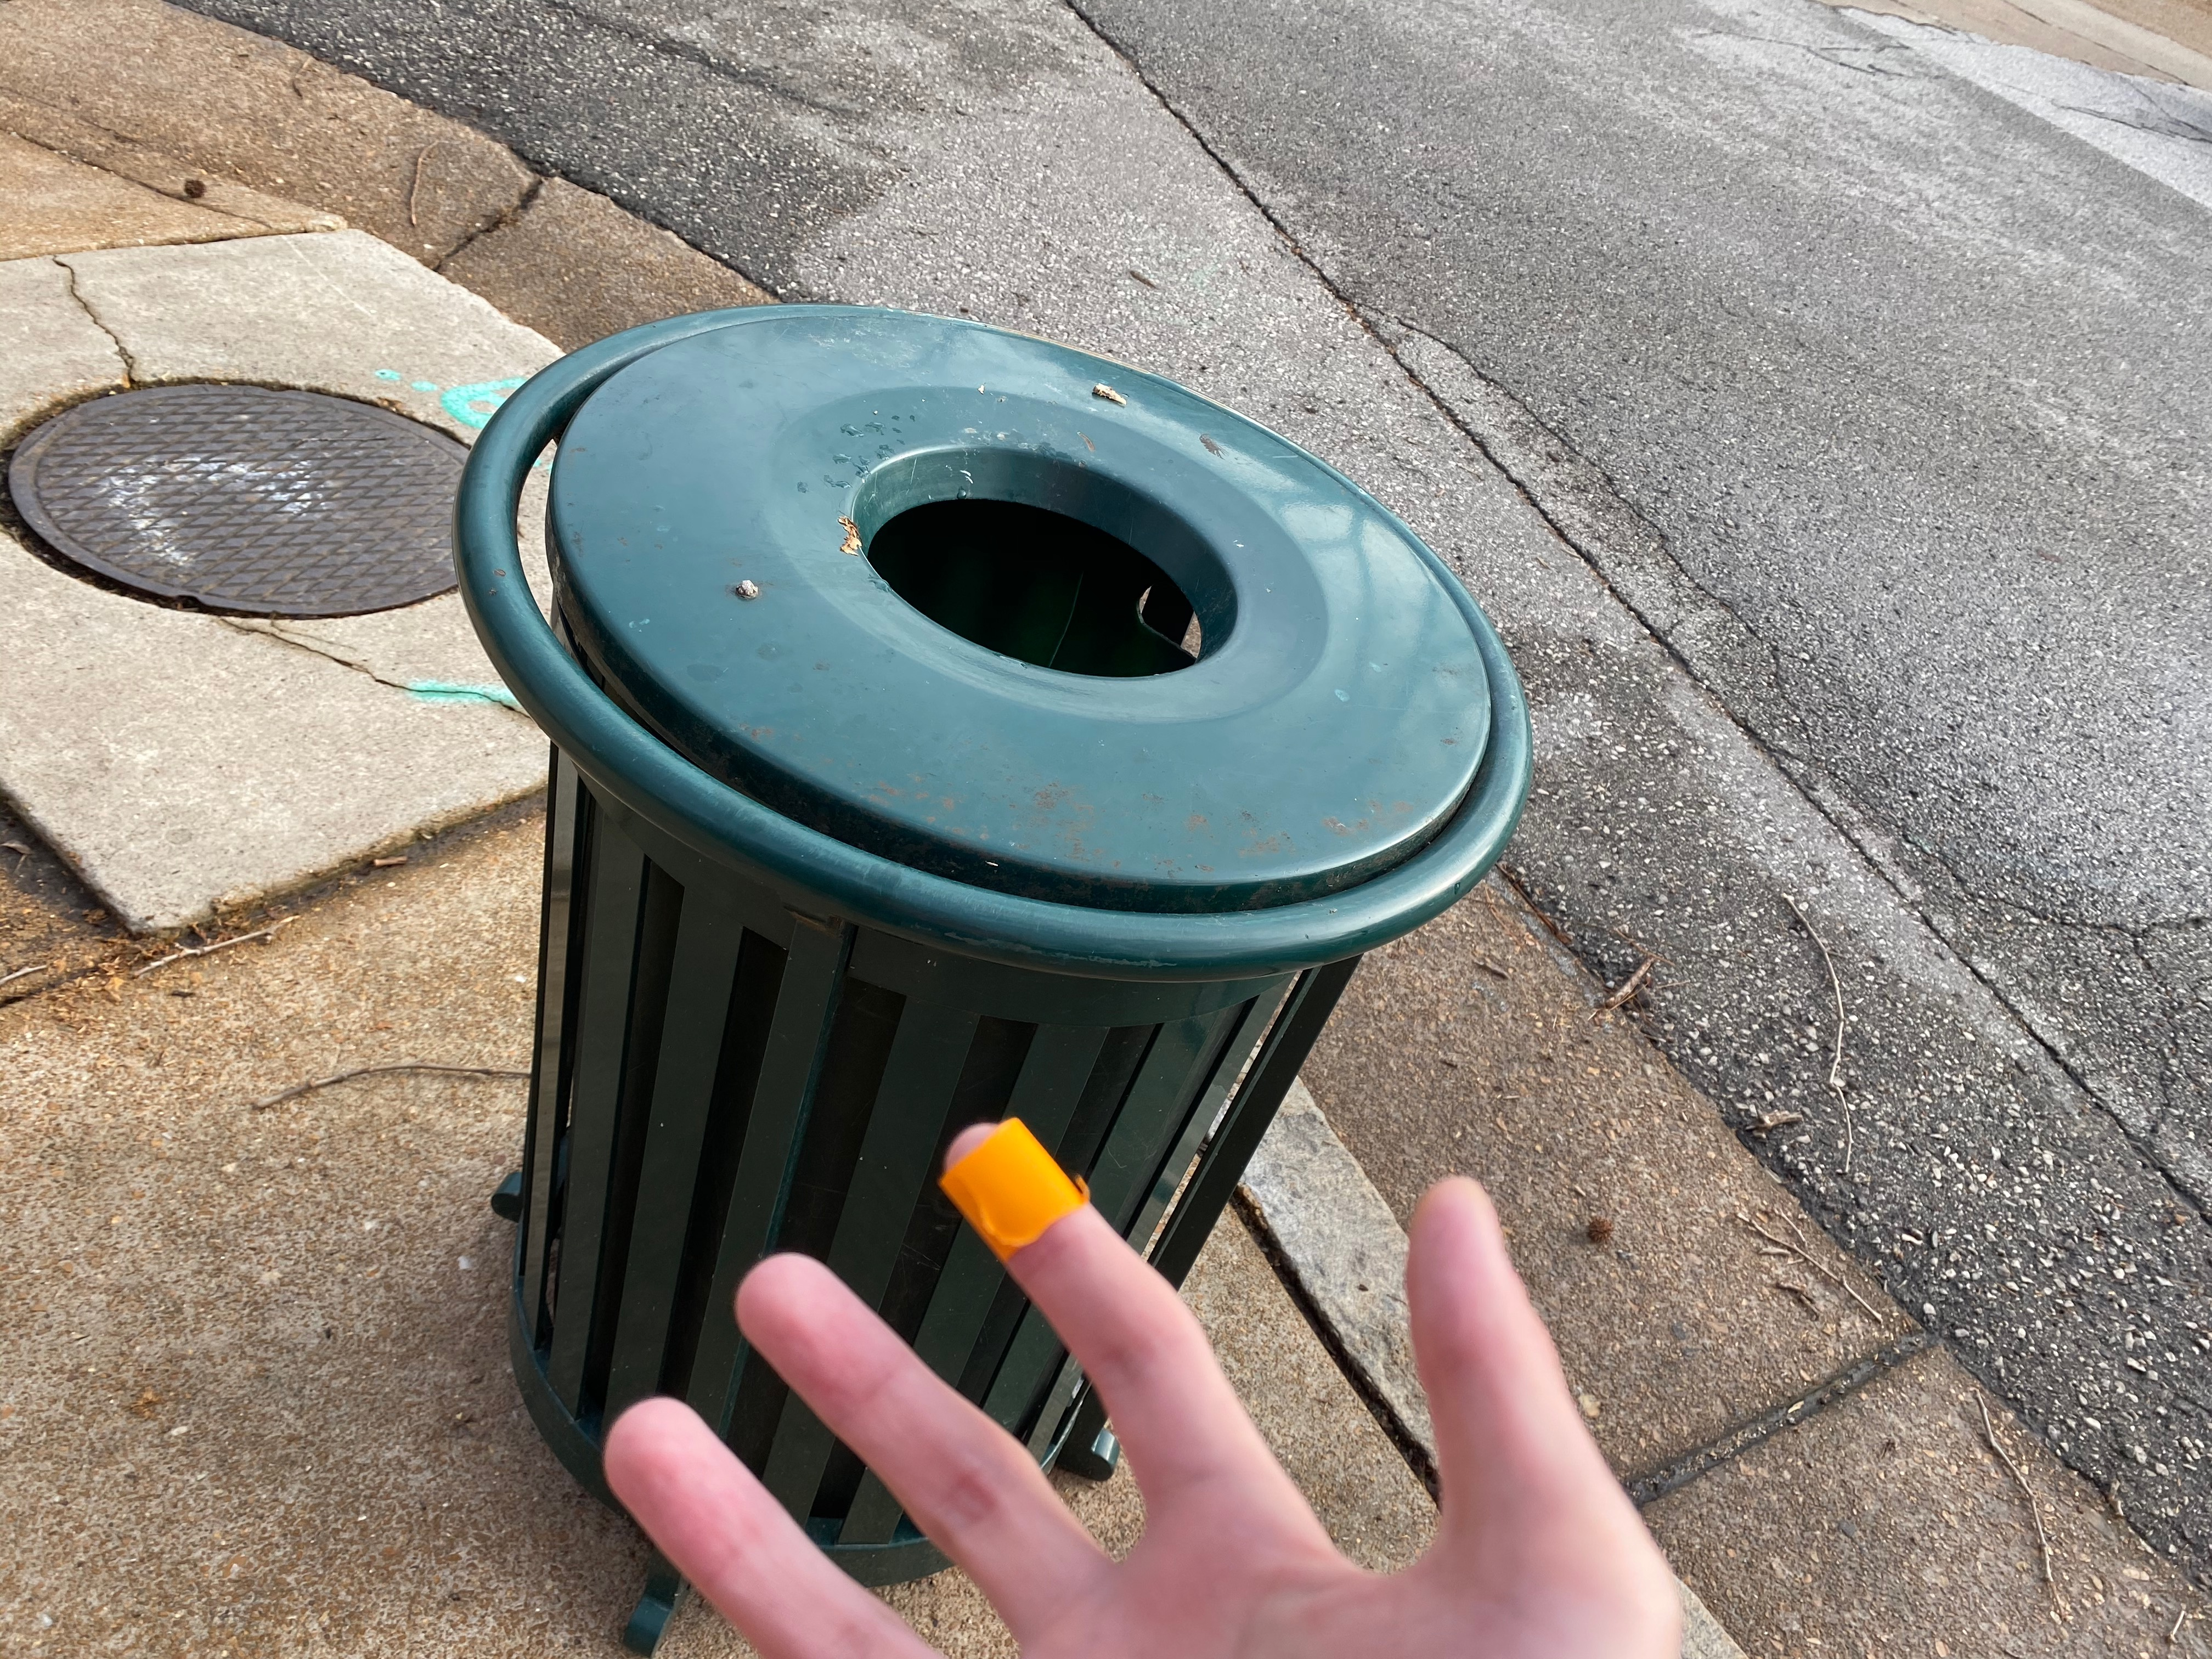fingertip: (920, 1098, 1116, 1295)
